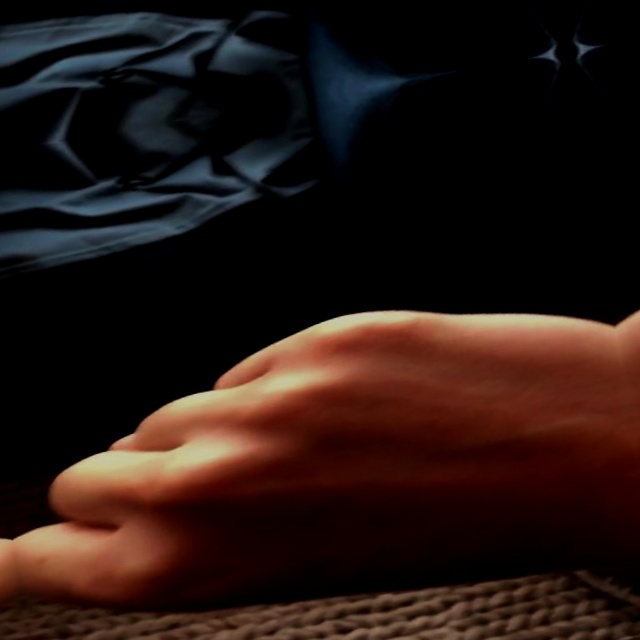Rock: (0, 376, 34, 640)
